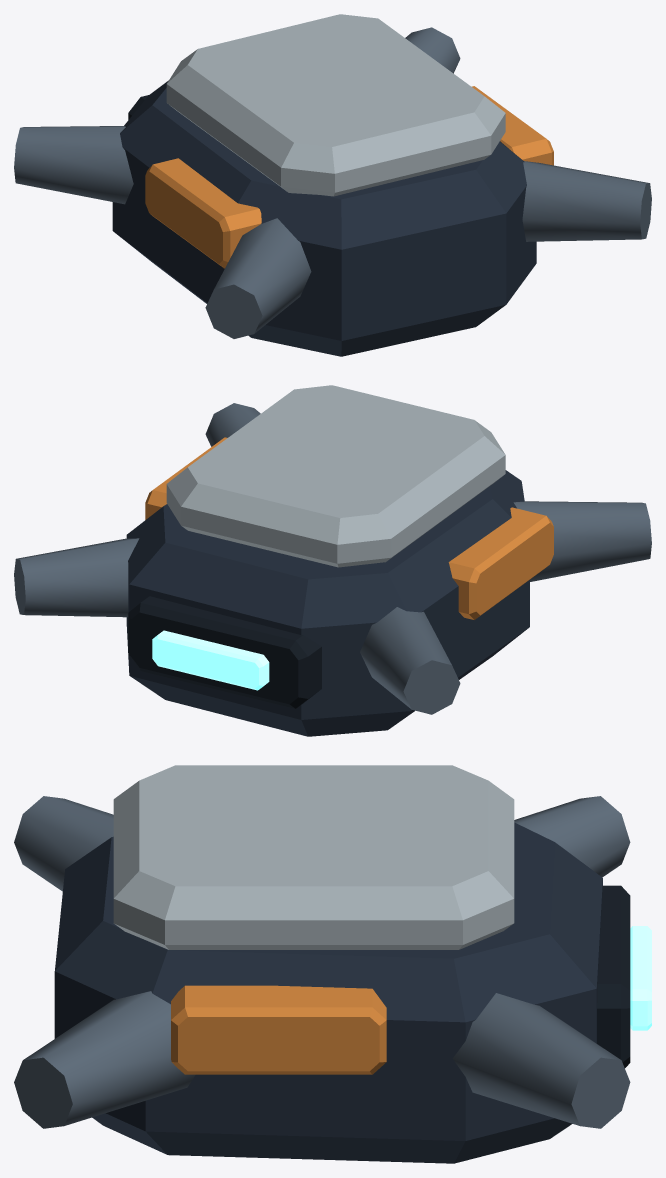
The model's file is supply_drone.glb.
3 renders of one model, top to bottom at view 1: azimuth 30°, elevation 25°; view 2: azimuth 150°, elevation 25°; view 3: azimuth 270°, elevation 25°, orthographic. The views are drawn at different scales.
Visible parts, largest first — view 1: supply_drone; view 2: supply_drone; view 3: supply_drone.
Part boxes in pixels (<box>): supply_drone: <box>14,14,651,356</box>; supply_drone: <box>14,385,651,736</box>; supply_drone: <box>14,765,651,1163</box>.
Bounding box in the file's own units: 0.6502 × 0.2805 × 0.618.
